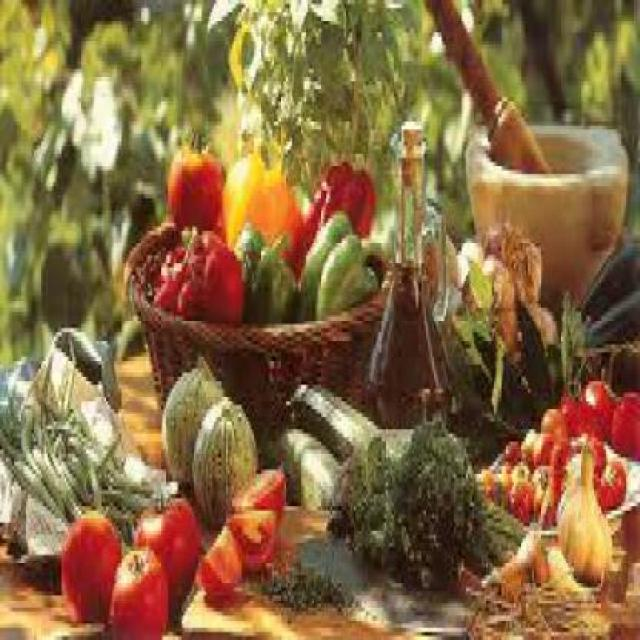BIODEGRADABLE: (331, 417, 524, 588), (441, 303, 534, 434), (295, 207, 380, 316), (154, 214, 241, 320), (220, 137, 298, 255), (190, 388, 255, 522), (132, 482, 194, 612), (160, 352, 222, 482), (554, 438, 611, 579), (482, 518, 550, 636), (2, 409, 72, 523), (58, 502, 122, 616), (519, 295, 586, 397), (232, 215, 298, 316), (296, 153, 372, 239), (286, 381, 376, 450), (164, 125, 222, 227), (264, 424, 342, 498), (108, 539, 166, 636), (460, 254, 514, 348), (576, 235, 638, 316), (0, 432, 57, 516), (482, 218, 542, 296), (223, 502, 274, 567), (556, 292, 590, 386), (194, 522, 238, 592), (266, 567, 348, 604), (230, 462, 284, 518), (582, 291, 638, 344), (66, 433, 99, 507), (422, 227, 456, 296), (608, 384, 638, 454), (136, 243, 172, 300), (582, 376, 612, 438), (89, 417, 120, 474), (95, 474, 150, 506), (538, 465, 562, 527), (18, 400, 38, 474), (560, 389, 591, 433), (506, 470, 532, 522), (380, 417, 422, 449), (540, 402, 565, 449), (529, 299, 556, 336), (604, 454, 624, 501), (530, 429, 556, 462), (112, 470, 146, 495), (110, 494, 132, 531), (454, 239, 478, 272), (482, 461, 502, 494), (500, 438, 520, 470), (588, 437, 602, 478), (508, 454, 530, 478), (592, 479, 610, 506)
GLASS: (368, 133, 446, 418)
